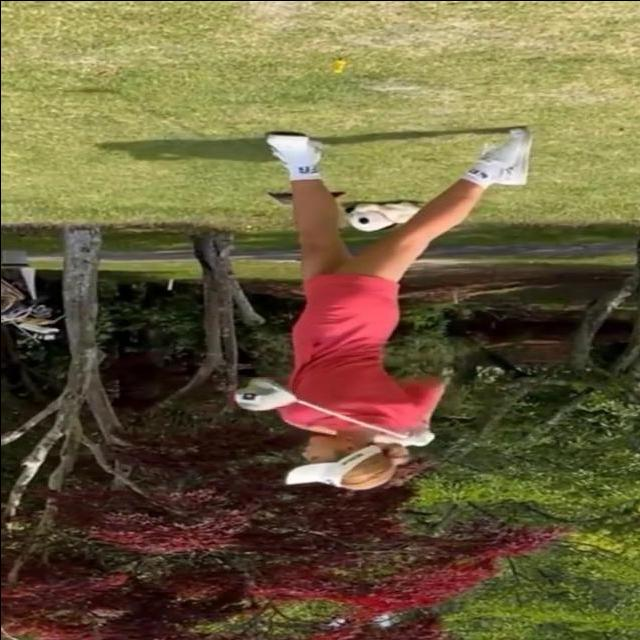golf club-handle: (233, 377, 412, 441)
golf club-head: (235, 378, 298, 409)
